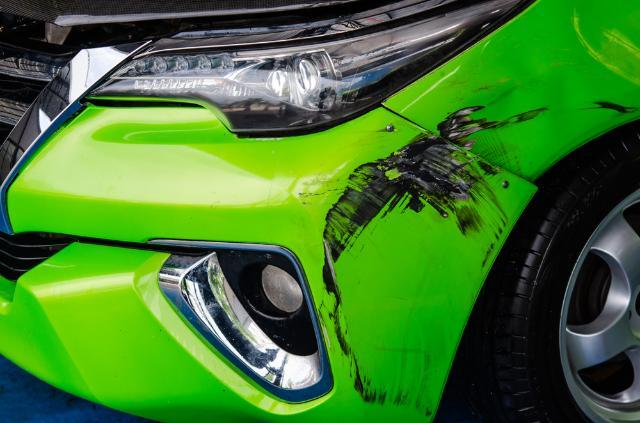dent: (454, 49, 592, 136)
scratch: (303, 127, 511, 419), (436, 110, 527, 169), (592, 92, 640, 114)
